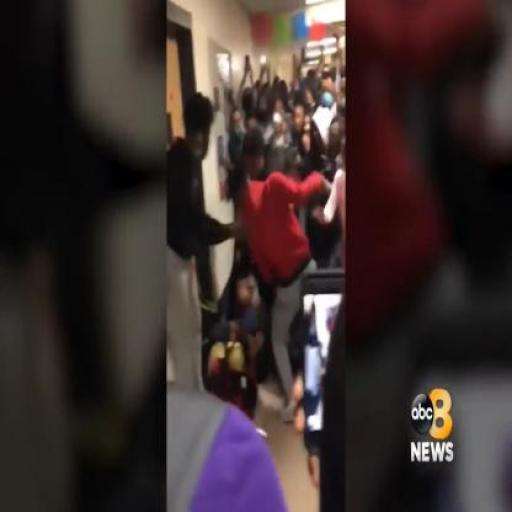Fighting: (174, 5, 342, 512)
